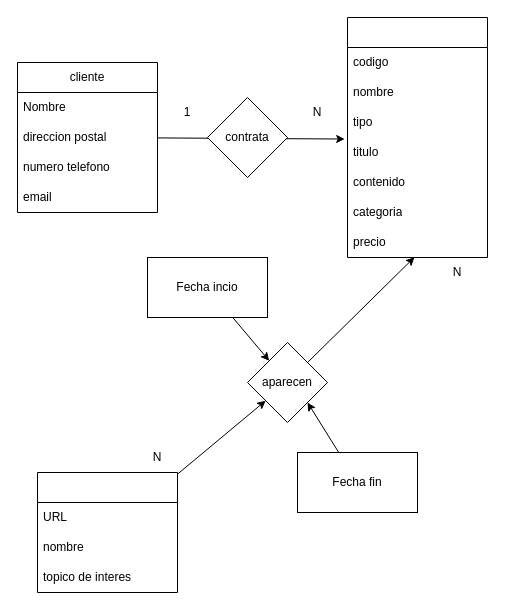
This 505x610 diagram has some shape labels left out. Each missing label, with the box of its shape:
anuncios: (346, 16, 488, 258)
web: (36, 472, 178, 592)
